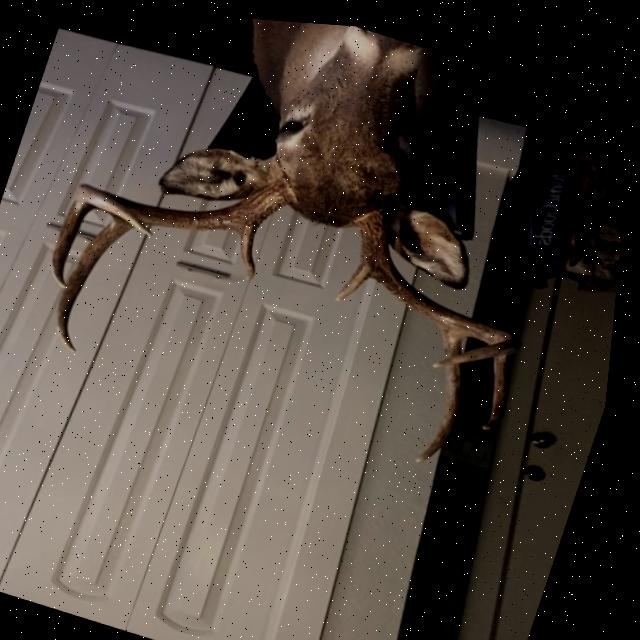L-F: (357, 203, 527, 360)
L-G1: (340, 257, 376, 295)
R-F: (77, 174, 300, 233)
R-G1: (241, 224, 260, 276)
